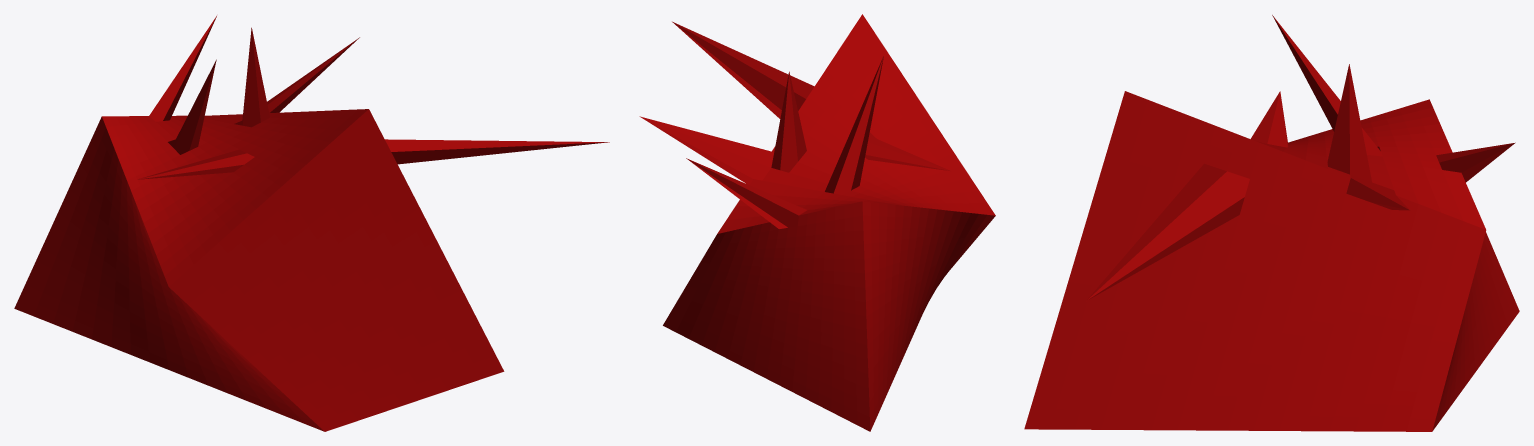
The model's file is spikey.obj.
3 views of the same model, side by side, from view 1: azimuth 30°, elevation 25°; view 2: azimuth 150°, elevation 25°; view 3: azimuth 270°, elevation 25° (orthographic). The views are drawn at different scales.
Visible parts, largest first — view 1: Cube; view 2: Cube; view 3: Cube.
Part boxes in pixels (x1,y1,x2,y2): Cube: [14, 16, 609, 431]; Cube: [639, 14, 995, 431]; Cube: [1024, 15, 1519, 431].
Bounding box in the file's own units: 10.51 × 7.93 × 9.75.
